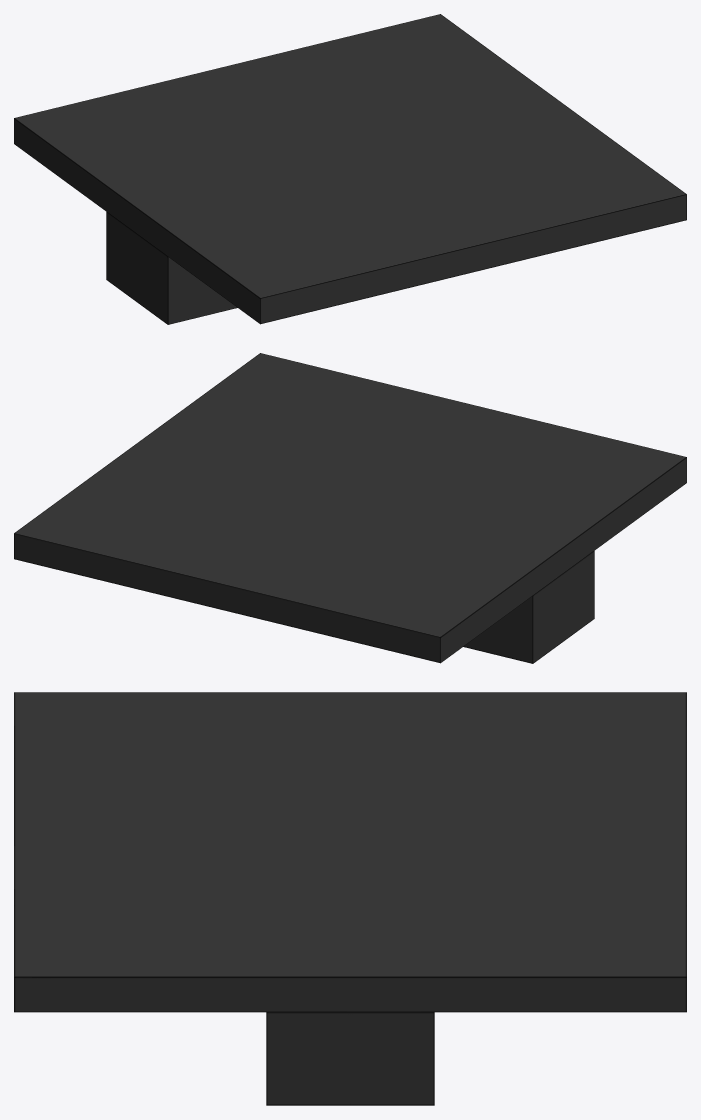
Rendered from flat_cart.obj.
The picture shows the model from 3 angles, top to bottom: view 1: azimuth 30°, elevation 25°; view 2: azimuth 150°, elevation 25°; view 3: azimuth 270°, elevation 25°; orthographic projection. The views are drawn at different scales.
Visible parts, largest first — view 1: flat_cart_Cube.014; view 2: flat_cart_Cube.014; view 3: flat_cart_Cube.014.
Part boxes in pixels (box(x1,y1,x2,y2)): flat_cart_Cube.014: box(14, 14, 686, 324); flat_cart_Cube.014: box(14, 353, 686, 663); flat_cart_Cube.014: box(14, 692, 686, 1105).
Size of the model in its own units: 2 by 0.4218 by 2.
1 material, 1 textured.
